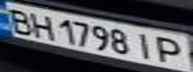1: (51, 16, 75, 44)
7: (69, 19, 93, 47)
8: (109, 26, 133, 56)
9: (90, 22, 112, 52)
B: (3, 5, 36, 35)
H: (27, 10, 57, 40)
I: (130, 29, 157, 61)
P: (151, 34, 187, 65)
